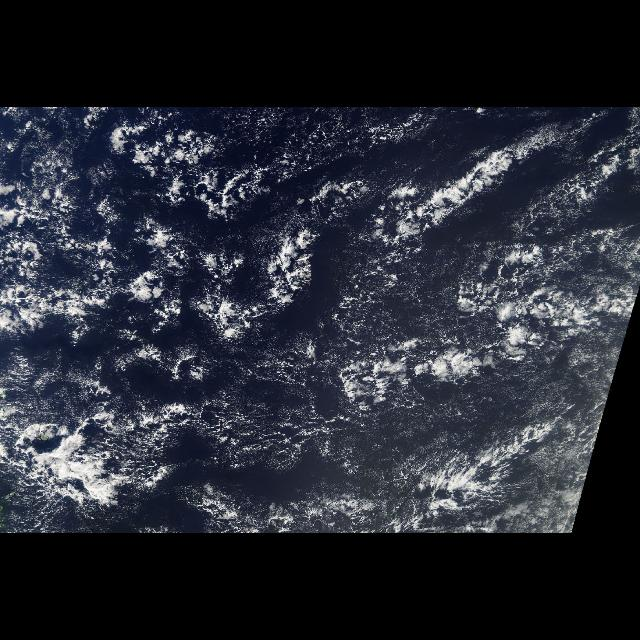Gravel: (6, 118, 426, 384)
Sugar: (526, 344, 622, 474), (341, 408, 482, 454)
